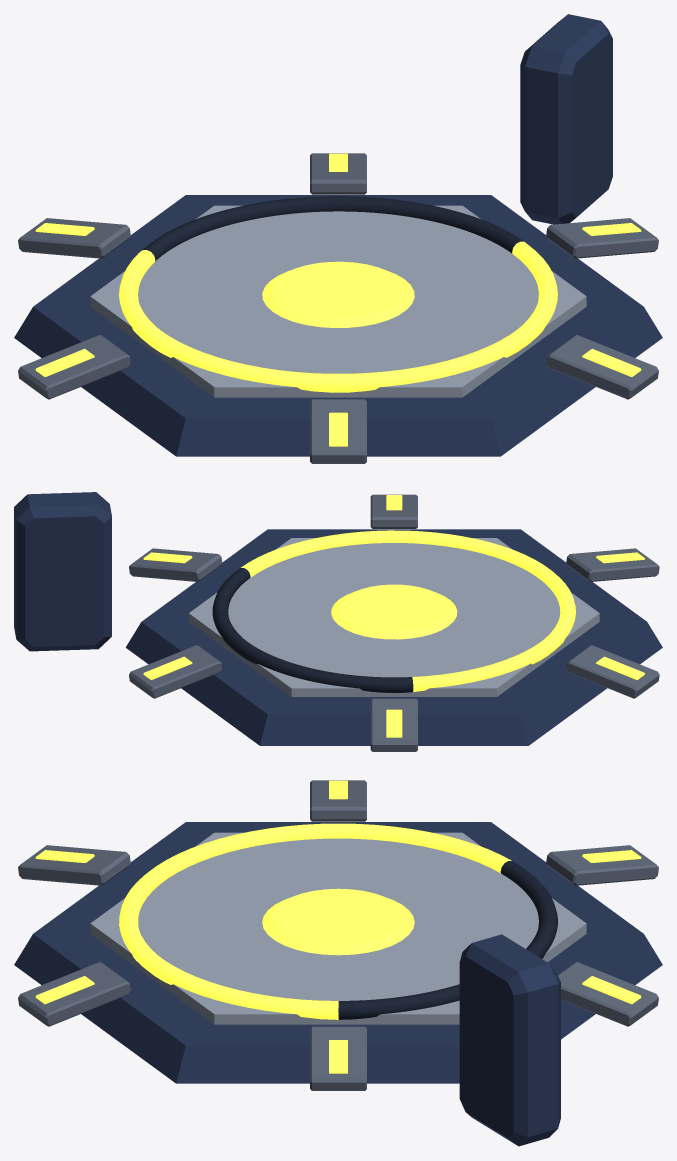
File: shared_teleporter_pad_cooldown.glb
The picture shows the model from 3 angles, top to bottom: view 1: azimuth 30°, elevation 25°; view 2: azimuth 150°, elevation 25°; view 3: azimuth 270°, elevation 25°; orthographic projection. The views are drawn at different scales.
Parts seen in each view (by area): view 1: tele_plate, tele_base, tele_console, tele_ring, tele_core, tele_arc, tele_petal_blade1, tele_petal_blade3, tele_petal_blade2, tele_petal_blade0, tele_petal_blade4, tele_petal_blade5 (+3 smaller); view 2: tele_plate, tele_base, tele_console, tele_ring, tele_core, tele_arc, tele_petal_blade3, tele_petal_blade5, tele_petal_blade4, tele_petal_blade0, tele_petal_blade2, tele_petal_blade1 (+3 smaller); view 3: tele_plate, tele_base, tele_console, tele_ring, tele_core, tele_arc, tele_petal_blade1, tele_petal_blade5, tele_petal_blade0, tele_petal_blade2, tele_petal_blade4, tele_petal_blade3 (+5 smaller).
Boxes of the visible parts, x1,y1,x2,y2 form: tele_plate: (90, 205, 586, 397); tele_base: (14, 195, 662, 456); tele_console: (520, 14, 612, 224); tele_ring: (119, 241, 557, 392); tele_core: (262, 261, 414, 327); tele_arc: (141, 196, 523, 261); tele_petal_blade1: (546, 335, 658, 399); tele_petal_blade3: (18, 335, 130, 399); tele_petal_blade2: (310, 399, 366, 463); tele_petal_blade0: (546, 218, 658, 258); tele_petal_blade4: (18, 218, 130, 258); tele_petal_blade5: (310, 153, 366, 194); tele_plate: (188, 538, 599, 696); tele_base: (126, 529, 662, 745); tele_console: (14, 492, 111, 651); tele_ring: (241, 530, 575, 691); tele_core: (331, 584, 457, 639); tele_arc: (212, 568, 413, 692); tele_petal_blade3: (566, 645, 659, 698); tele_petal_blade5: (129, 645, 222, 698); tele_petal_blade4: (370, 698, 417, 751); tele_petal_blade0: (129, 548, 222, 581); tele_petal_blade2: (566, 548, 659, 581); tele_petal_blade1: (370, 494, 417, 528); tele_plate: (90, 832, 586, 1024); tele_base: (14, 822, 662, 1083); tele_console: (459, 934, 560, 1146); tele_ring: (119, 823, 511, 1019); tele_core: (262, 888, 414, 955); tele_arc: (338, 861, 557, 1019); tele_petal_blade1: (18, 962, 130, 1026); tele_petal_blade5: (558, 962, 658, 1026); tele_petal_blade0: (310, 1026, 366, 1090); tele_petal_blade2: (18, 845, 130, 885); tele_petal_blade4: (546, 845, 658, 885); tele_petal_blade3: (310, 780, 366, 821).
Size of the model in its own units: 4.06 by 1.01 by 3.4.
